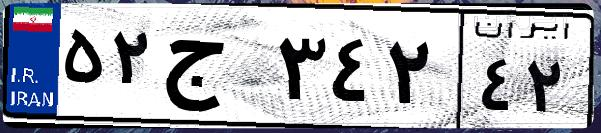2: (385, 28, 445, 110), (525, 38, 570, 115), (110, 28, 158, 98)
3: (270, 28, 330, 110)
4: (330, 28, 385, 110), (475, 38, 525, 113)
5: (57, 26, 110, 100)
ج: (158, 20, 270, 120)
